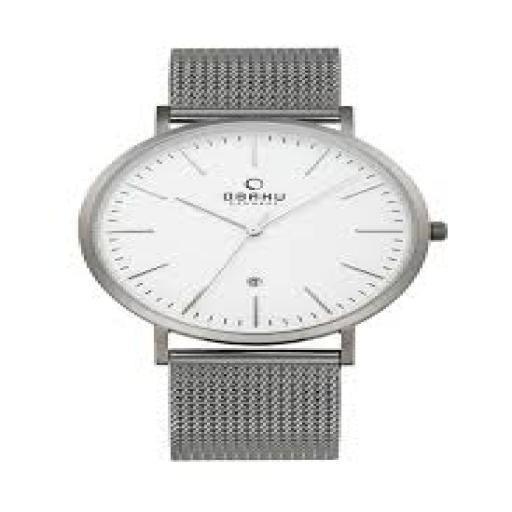KolSaati: (33, 26, 481, 478)
